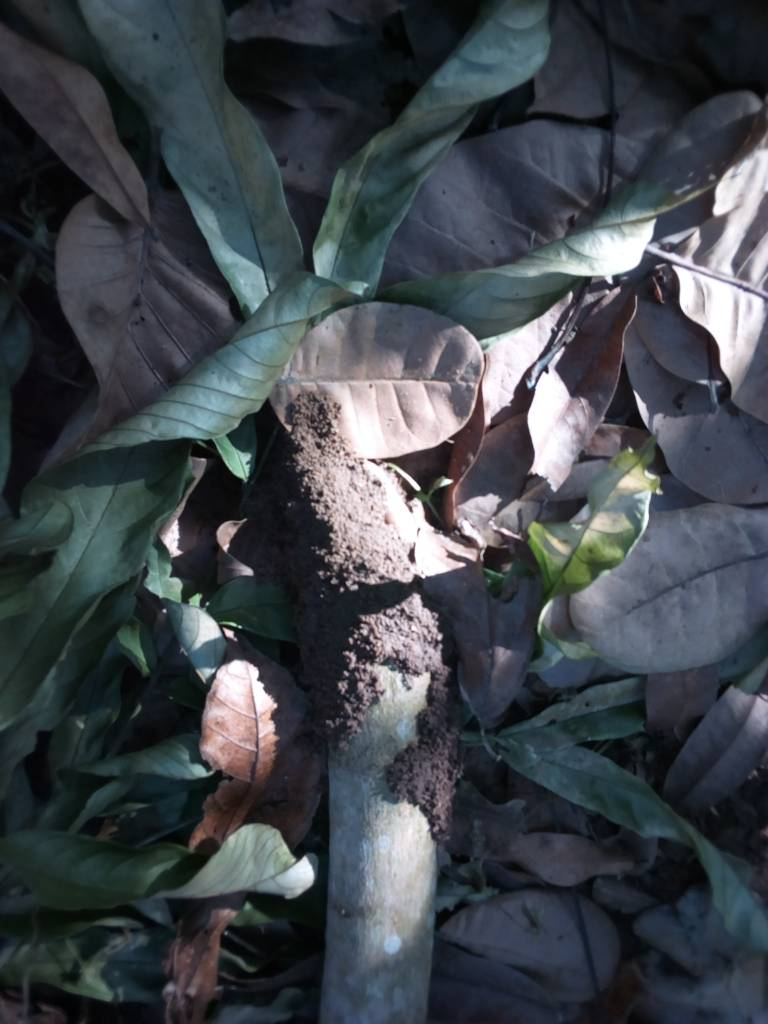Termites: (285, 388, 435, 742)
